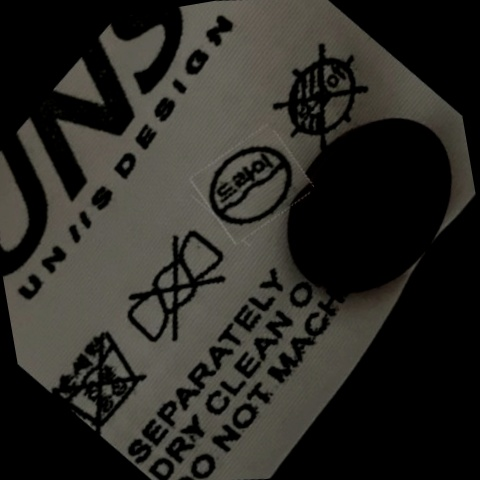DN_dry: (262, 37, 380, 157)
DN_wring: (110, 223, 243, 357)
dry_clean: (198, 130, 306, 241)
hand_wash: (45, 315, 158, 436)
